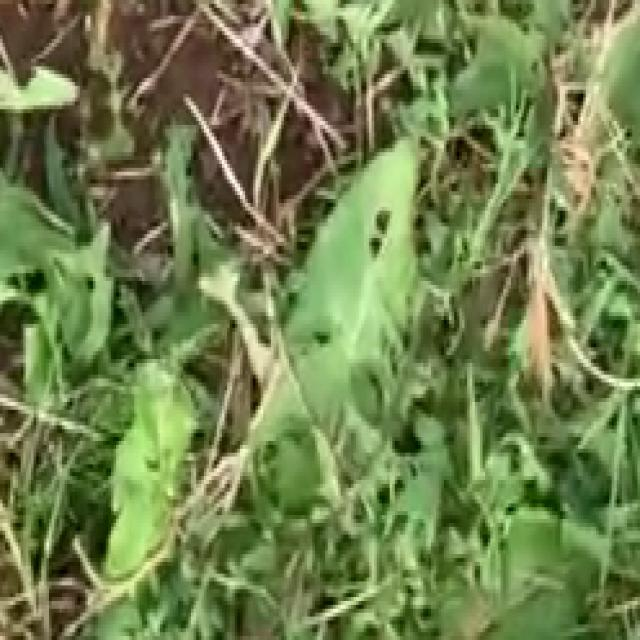organic waste: (230, 90, 498, 605)
